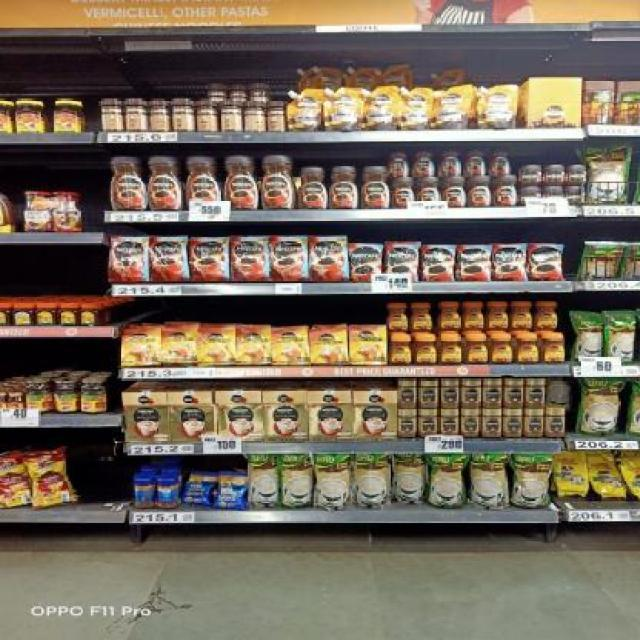Coffee: (108, 155, 148, 211), (183, 154, 221, 210), (222, 154, 260, 210), (260, 154, 298, 210), (148, 155, 185, 211), (108, 236, 149, 280), (150, 237, 188, 281), (309, 236, 347, 280), (191, 237, 229, 281), (271, 236, 307, 280), (232, 237, 269, 279), (329, 166, 361, 209), (309, 328, 347, 364), (121, 330, 159, 366), (360, 166, 392, 208), (197, 328, 234, 364), (272, 328, 309, 364), (298, 167, 329, 209), (350, 328, 386, 364), (160, 327, 196, 363), (385, 245, 418, 284), (347, 244, 381, 280), (456, 245, 490, 281), (236, 328, 270, 364), (529, 245, 562, 281), (420, 246, 454, 280), (492, 246, 524, 280), (470, 176, 493, 207), (487, 148, 513, 175), (516, 335, 540, 364), (541, 335, 565, 364), (464, 336, 488, 365), (496, 176, 518, 207), (410, 303, 433, 332), (445, 178, 467, 208), (393, 179, 415, 208), (462, 302, 484, 331), (534, 301, 556, 330), (437, 302, 459, 331), (486, 302, 508, 331), (386, 303, 408, 332), (413, 336, 435, 365), (490, 335, 512, 364), (413, 149, 435, 177), (510, 301, 532, 329), (439, 336, 461, 364), (389, 336, 411, 364), (466, 149, 487, 177), (481, 409, 501, 438), (441, 149, 463, 175), (419, 380, 439, 408), (419, 409, 438, 438), (504, 409, 523, 438), (398, 410, 417, 438), (441, 379, 459, 408), (505, 379, 523, 408), (483, 379, 501, 408), (398, 380, 416, 409), (461, 409, 479, 438), (526, 409, 544, 438), (389, 151, 409, 177), (519, 166, 545, 186), (419, 178, 442, 200), (462, 379, 480, 407), (527, 379, 545, 407), (547, 409, 565, 437), (440, 408, 458, 434), (545, 164, 567, 185), (568, 164, 587, 185), (568, 187, 588, 205), (542, 188, 564, 204), (521, 186, 540, 204)
